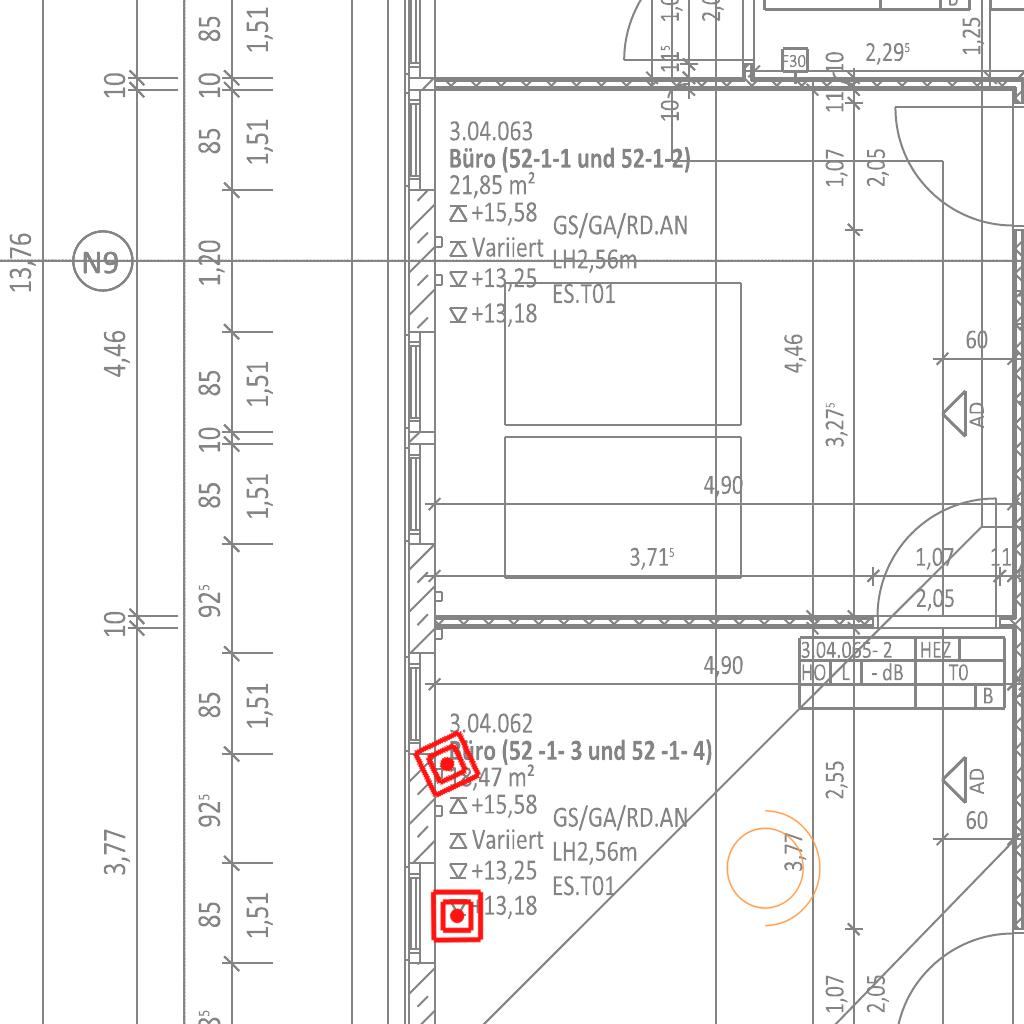NAM-Nichtautomatischer_Melder: (409, 726, 485, 802), (429, 888, 485, 944)
Scheinwerfer_fuer_Alarmbeleuchtung: (714, 799, 826, 931)
